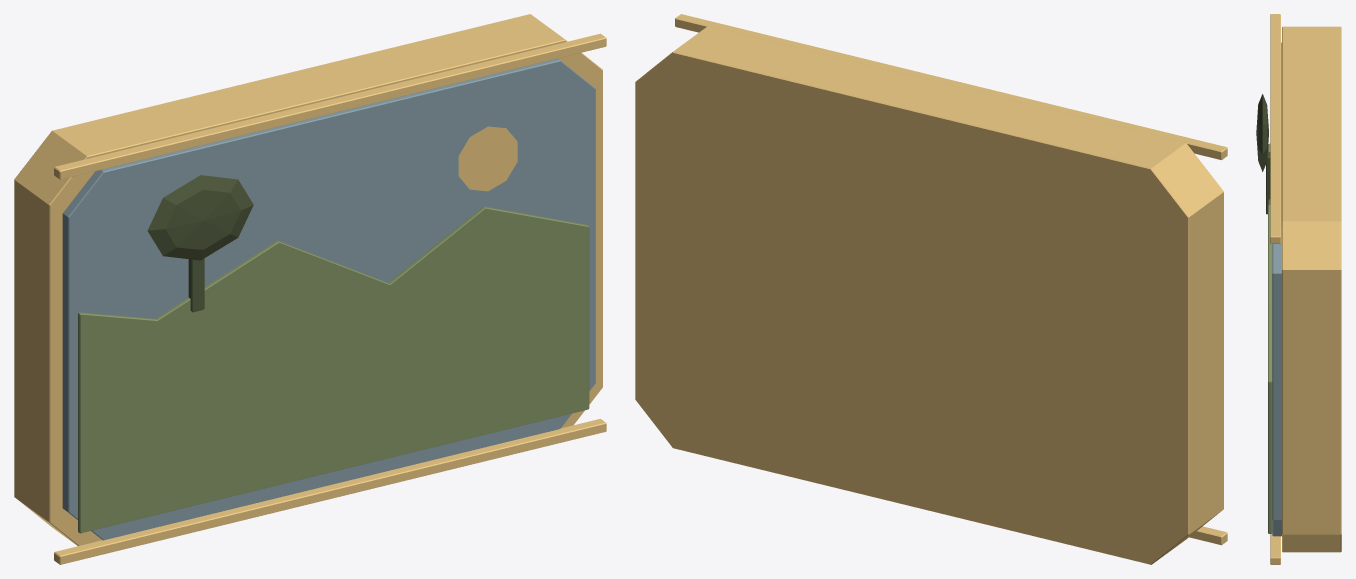
Rendered from puzzle.glb.
3 views of the same model, side by side, from view 1: azimuth 30°, elevation 25°; view 2: azimuth 150°, elevation 25°; view 3: azimuth 270°, elevation 25° (orthographic). The views are drawn at different scales.
Parts seen in each view (by area): view 1: puzzle; view 2: puzzle; view 3: puzzle.
Part boxes in pixels (x1,y1,x2,y2): puzzle: [14, 14, 606, 564]; puzzle: [635, 14, 1227, 564]; puzzle: [1256, 14, 1341, 564].
Size of the model in its own units: 0.25 by 0.171 by 0.04.
